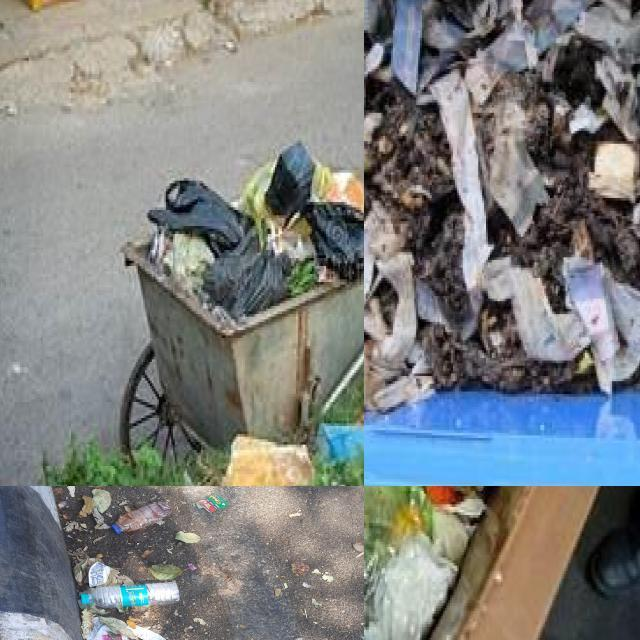Background: (50, 486, 364, 640)
Cig_bud: (288, 513, 300, 517)
Garbage: (364, 0, 640, 425), (129, 139, 364, 326), (364, 486, 484, 640)
Plastic_Bag: (149, 181, 289, 319), (265, 143, 364, 279), (364, 535, 458, 640), (364, 486, 431, 605)
Plastic_bottle: (111, 502, 173, 534)
Plastic_wraper: (196, 494, 228, 513), (188, 564, 197, 570)
